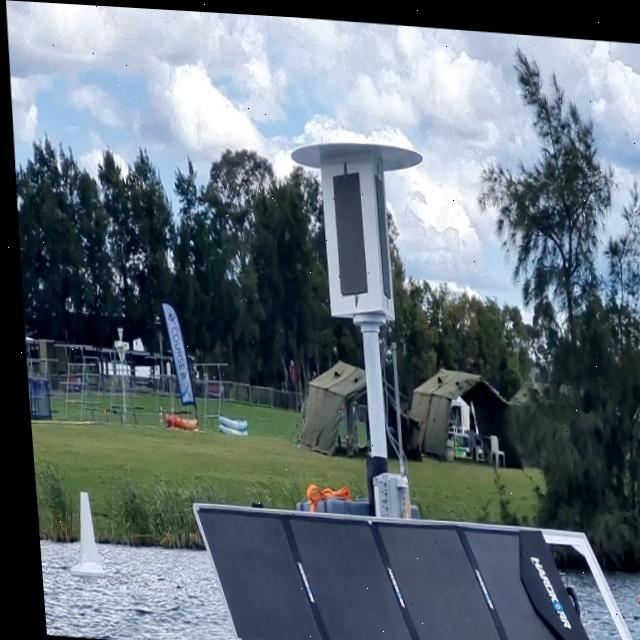led: (321, 157, 372, 300)
